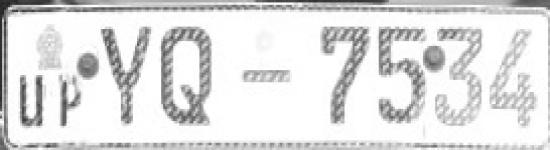-: (238, 65, 296, 91)
3: (432, 23, 486, 133)
4: (489, 23, 541, 134)
5: (374, 19, 430, 130)
7: (315, 17, 374, 132)
P: (55, 73, 83, 130)
Q: (158, 21, 224, 134)
U: (14, 70, 56, 132)
Y: (98, 22, 158, 126)
